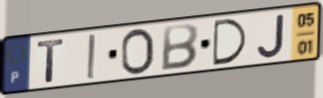B: (159, 22, 201, 73)
D: (211, 17, 250, 68)
I: (85, 32, 98, 81)
J: (256, 12, 287, 60)
O: (119, 26, 157, 77)
T: (36, 37, 67, 84)
